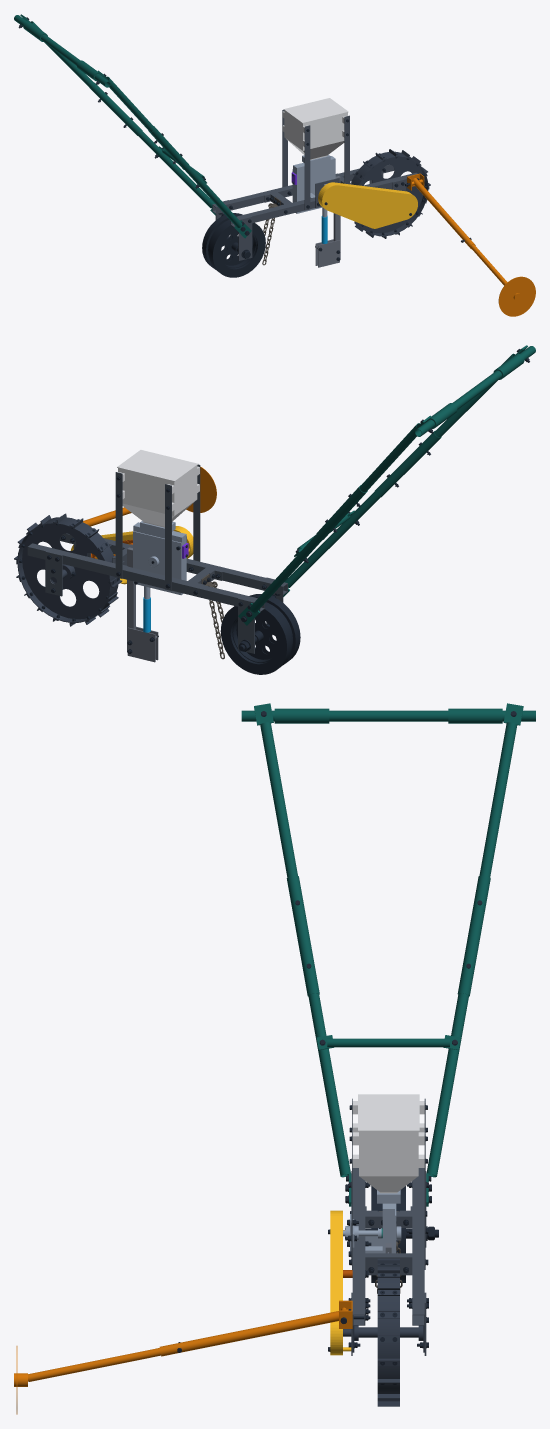
3 renders of one model, top to bottom at view 1: azimuth 30°, elevation 25°; view 2: azimuth 150°, elevation 25°; view 3: azimuth 270°, elevation 25°, orthographic. The views are drawn at different scales.
Visible parts, largest first — view 1: Handle, Steel frame, Chain guard, Seed hopper, Press wheel, Ground drive wheel, Row marker arm (row-spacing kit), Metering housing shaft and bearings, Furrow opener; view 2: Steel frame, Handle, Ground drive wheel, Seed hopper, Press wheel, Metering housing shaft and bearings, Furrow opener, Row marker arm (row-spacing kit), Chain guard; view 3: Handle, Seed hopper, Steel frame, Ground drive wheel, Row marker arm (row-spacing kit), Chain guard, Metering housing shaft and bearings.
Boxes of the visible parts, <box> form: Handle: <box>14,14,251,238</box>; Steel frame: <box>212,109,417,260</box>; Chain guard: <box>318,182,417,228</box>; Seed hopper: <box>282,98,348,159</box>; Press wheel: <box>202,213,265,277</box>; Ground drive wheel: <box>351,149,430,238</box>; Row marker arm (row-spacing kit): <box>407,173,535,316</box>; Metering housing shaft and bearings: <box>292,155,335,217</box>; Furrow opener: <box>315,176,340,267</box>; Steel frame: <box>27,464,287,653</box>; Handle: <box>238,345,535,625</box>; Ground drive wheel: <box>14,513,122,626</box>; Seed hopper: <box>117,450,199,527</box>; Press wheel: <box>220,594,300,674</box>; Metering housing shaft and bearings: <box>133,521,186,599</box>; Furrow opener: <box>127,547,158,662</box>; Row marker arm (row-spacing kit): <box>83,466,216,526</box>; Chain guard: <box>70,526,193,584</box>; Handle: <box>241,703,535,1206</box>; Seed hopper: <box>352,1094,424,1193</box>; Steel frame: <box>351,1098,426,1355</box>; Ground drive wheel: <box>343,1258,424,1406</box>; Row marker arm (row-spacing kit): <box>14,1300,352,1414</box>; Chain guard: <box>330,1210,351,1355</box>; Metering housing shaft and bearings: <box>343,1190,401,1253</box>.
Bounding box in the file's own units: 1.4 × 1.03 × 1.05.
